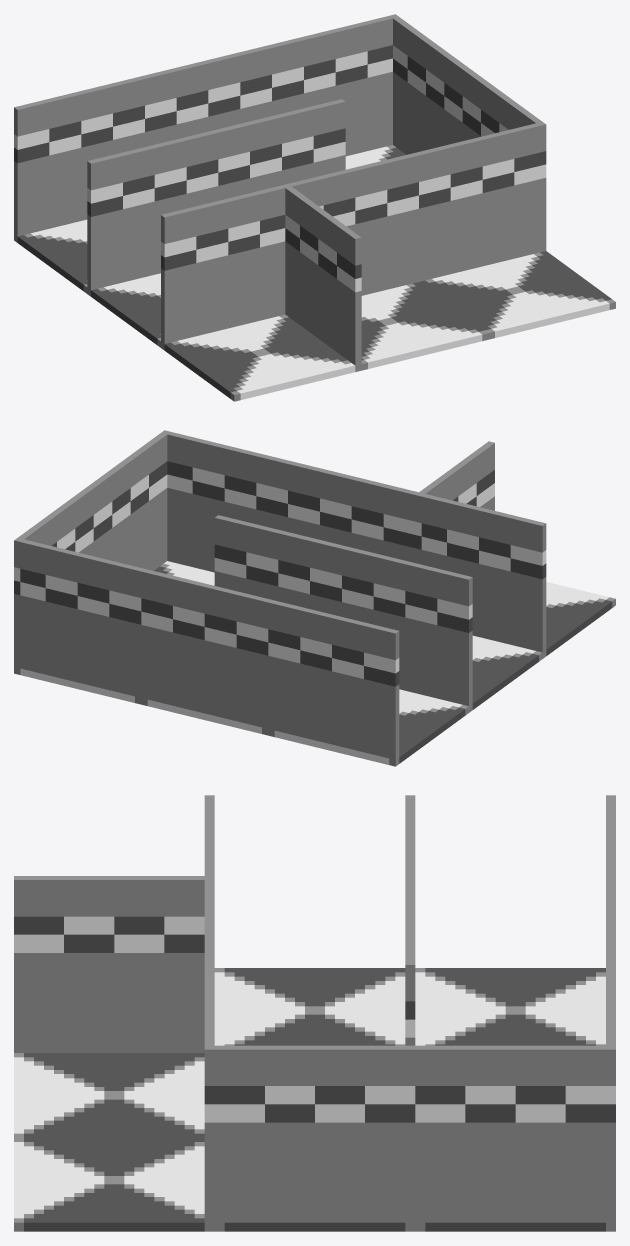
File: level_maze-19.obj
3 renders of one model, top to bottom at view 1: azimuth 30°, elevation 25°; view 2: azimuth 150°, elevation 25°; view 3: azimuth 270°, elevation 25°, orthographic. The views are drawn at different scales.
Visible parts, largest first — view 1: level_maze-19; view 2: level_maze-19; view 3: level_maze-19.
Part boxes in pixels (x1,y1,x2,y2): level_maze-19: [14, 14, 615, 401]; level_maze-19: [14, 430, 615, 766]; level_maze-19: [14, 795, 615, 1231].
Bounding box in the file's own units: 60 × 20 × 60.
1 material, 1 textured.
